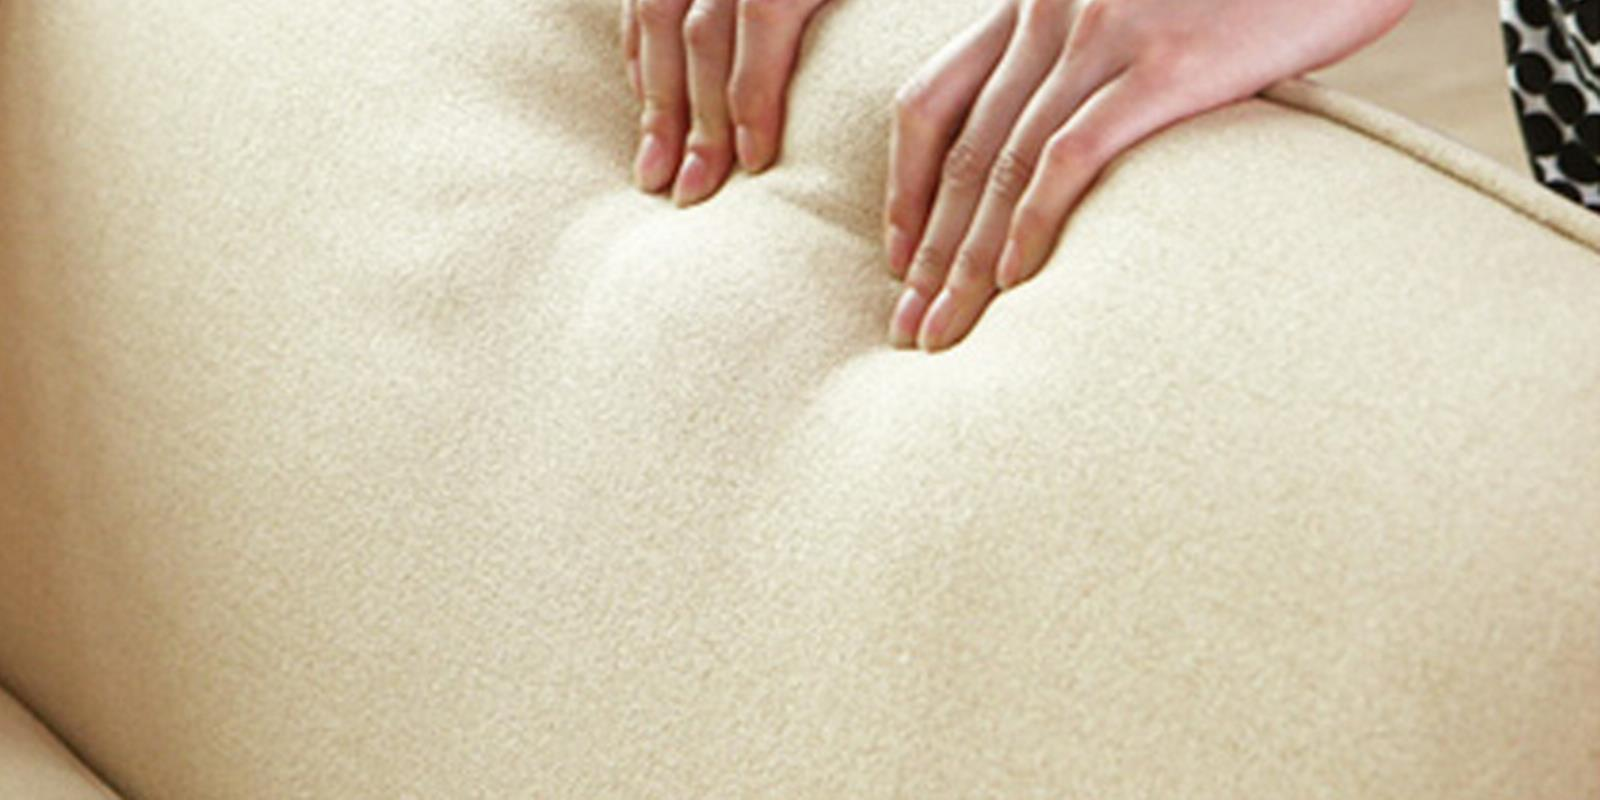Gloria Three Seater Sofa with Ottoman in Beige Colour by CasaCraft: (5, 8, 1599, 774)
